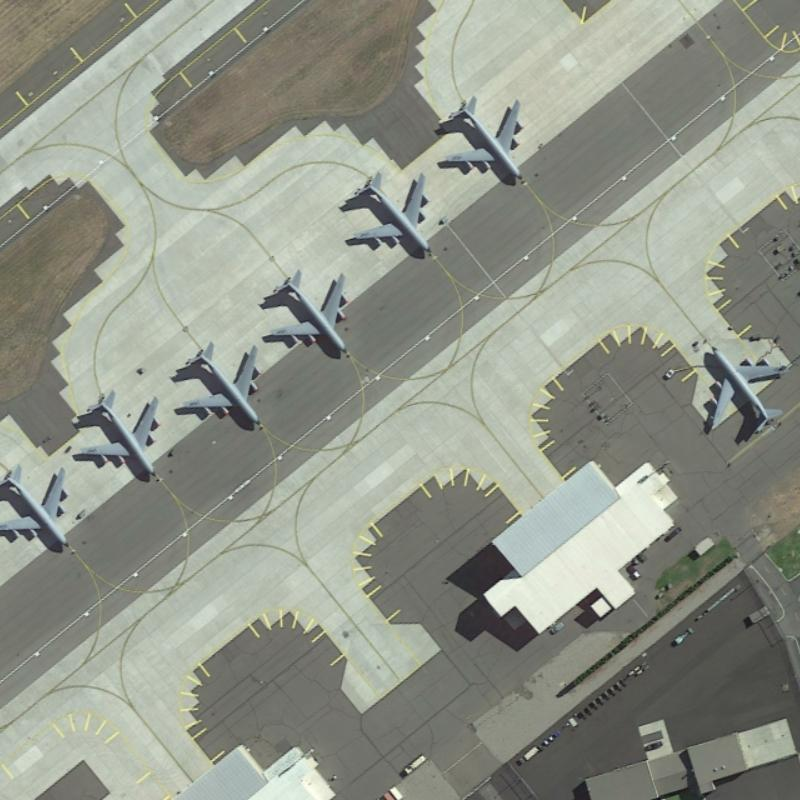A14: (169, 336, 273, 434), (695, 336, 791, 442), (336, 165, 439, 263), (435, 93, 535, 192), (70, 386, 168, 487), (261, 265, 354, 361), (0, 457, 79, 559)
